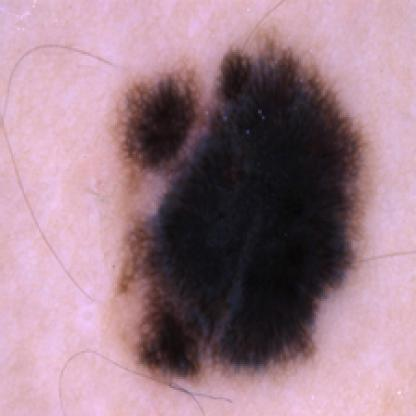benign: (108, 54, 371, 373)
